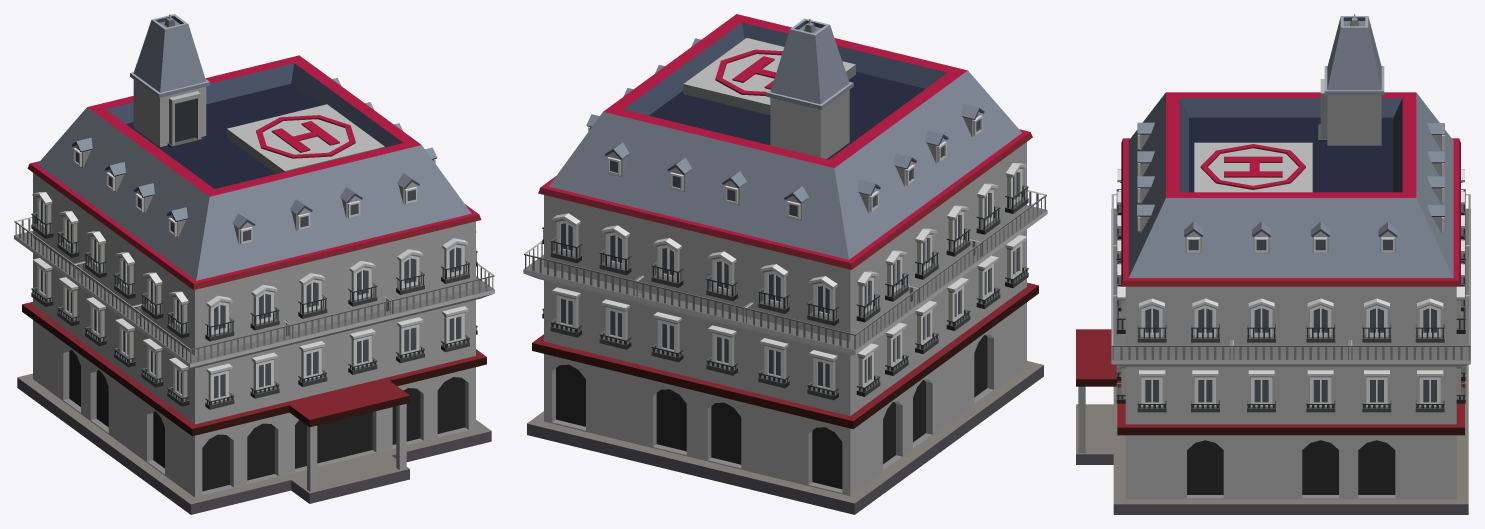
Rendered from TB_CITY_Uniq_Hospital.FBX.
The picture shows the model from 3 angles, left to right: view 1: azimuth 30°, elevation 25°; view 2: azimuth 150°, elevation 25°; view 3: azimuth 270°, elevation 25°; orthographic projection. The views are drawn at different scales.
Parts seen in each view (by area): view 1: TB_CITY_Uniq_Hospital; view 2: TB_CITY_Uniq_Hospital; view 3: TB_CITY_Uniq_Hospital.
Part boxes in pixels (x1,y1,x2,y2): TB_CITY_Uniq_Hospital: (14,14,494,514); TB_CITY_Uniq_Hospital: (523,14,1047,514); TB_CITY_Uniq_Hospital: (1076,14,1470,514).
Size of the model in its own units: 24.29 by 29.74 by 26.67.
